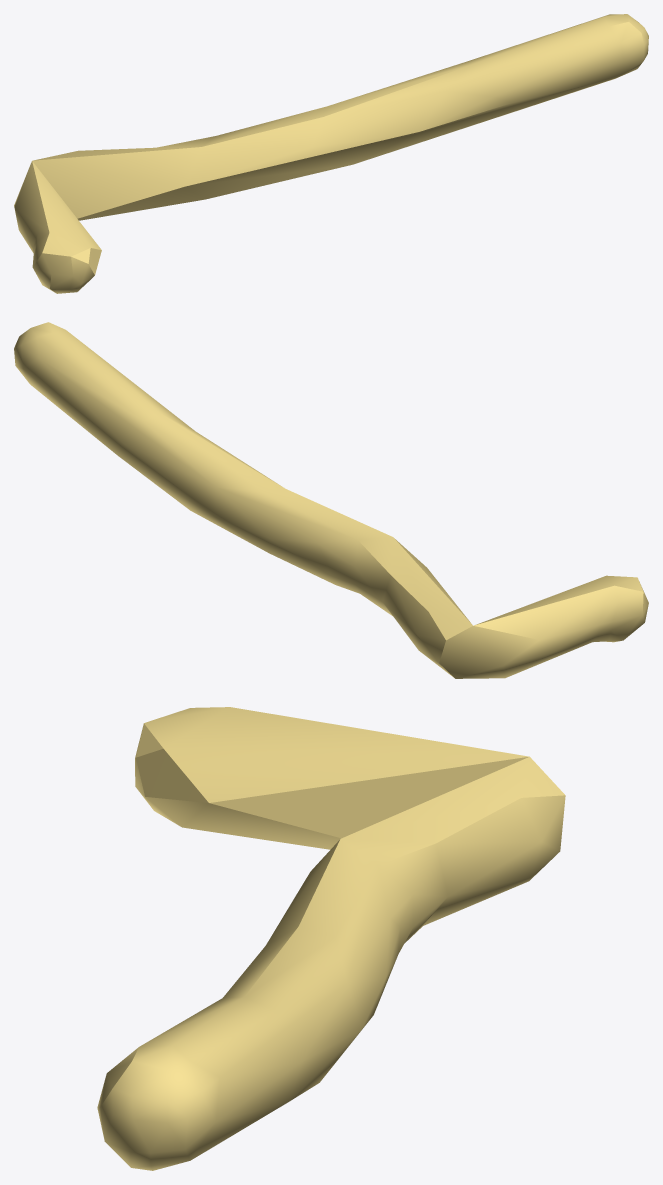
The model's file is fma52715_fj1366.glb.
3 views of the same model, one above another, from view 1: azimuth 30°, elevation 25°; view 2: azimuth 150°, elevation 25°; view 3: azimuth 270°, elevation 25° (orthographic). The views are drawn at different scales.
Visible parts, largest first — view 1: FMA52715_FJ1366; view 2: FMA52715_FJ1366; view 3: FMA52715_FJ1366.
Part boxes in pixels (left/top/right/bottom): FMA52715_FJ1366: left=14, top=14, right=648, bottom=293; FMA52715_FJ1366: left=14, top=322, right=648, bottom=678; FMA52715_FJ1366: left=97, top=707, right=565, bottom=1170.
Size of the model in its own units: 0.00776 by 0.00185 by 0.00263.
